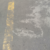others: (4, 1, 13, 48)
